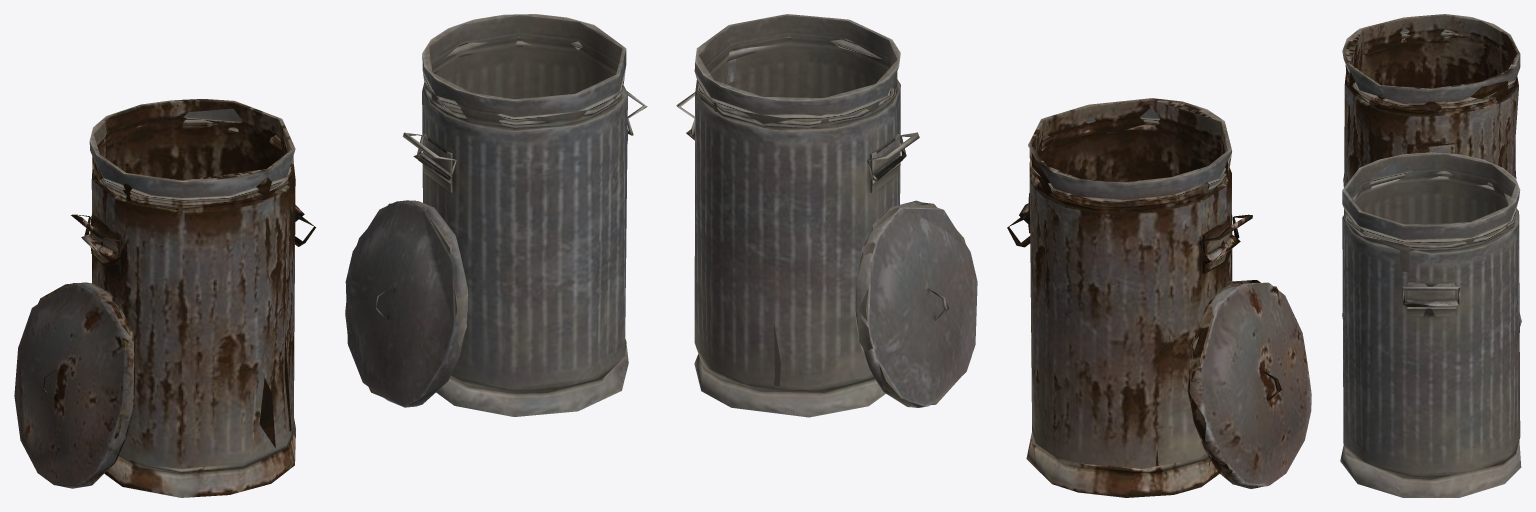
The model's file is metal_trash_can.glb.
The picture shows the model from 3 angles, left to right: view 1: azimuth 30°, elevation 25°; view 2: azimuth 150°, elevation 25°; view 3: azimuth 270°, elevation 25°; orthographic projection. The views are drawn at different scales.
Visible parts, largest first — view 1: metal_trash_can, metal_trash_can_rust, metal_trash_can_lid, metal_trash_can_rust_lid; view 2: metal_trash_can, metal_trash_can_rust, metal_trash_can_rust_lid, metal_trash_can_lid; view 3: metal_trash_can, metal_trash_can_rust, metal_trash_can_handle_right.
Part boxes in pixels (box(x1,y1,x2,y2)): metal_trash_can: box(413, 14, 628, 416); metal_trash_can_rust: box(81, 99, 304, 497); metal_trash_can_lid: box(345, 200, 468, 407); metal_trash_can_rust_lid: box(14, 282, 135, 488); metal_trash_can: box(686, 14, 900, 417); metal_trash_can_rust: box(1019, 98, 1240, 497); metal_trash_can_rust_lid: box(1187, 280, 1311, 488); metal_trash_can_lid: box(854, 200, 977, 407); metal_trash_can: box(1340, 152, 1521, 497); metal_trash_can_rust: box(1342, 14, 1521, 326); metal_trash_can_handle_right: box(1401, 286, 1461, 306).
Bounding box in the file's own units: 1.78 × 0.9062 × 0.5496.
3 materials, 3 textured.
